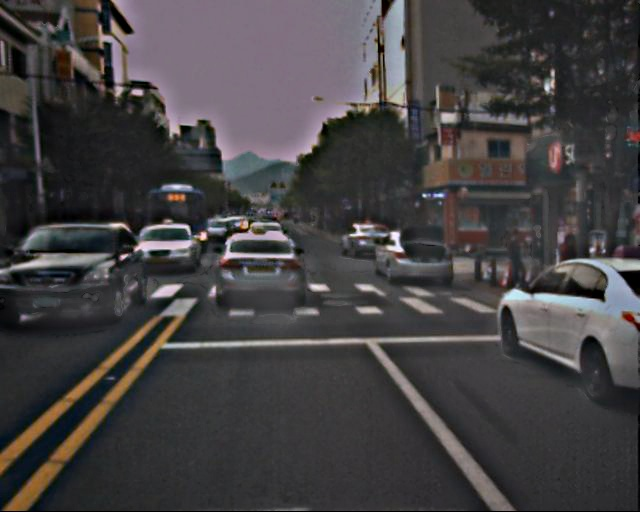person: (555, 237, 581, 296), (505, 228, 527, 289)
